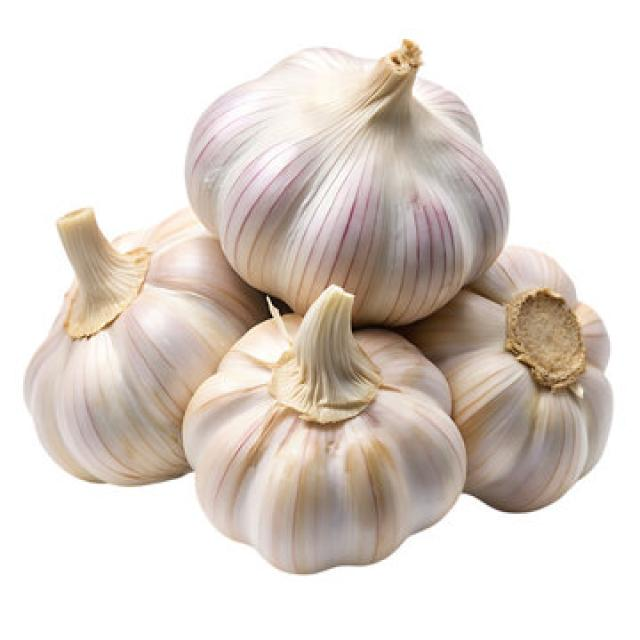Garlic: (183, 37, 510, 327), (184, 286, 472, 578), (21, 204, 267, 486), (416, 242, 626, 512)
